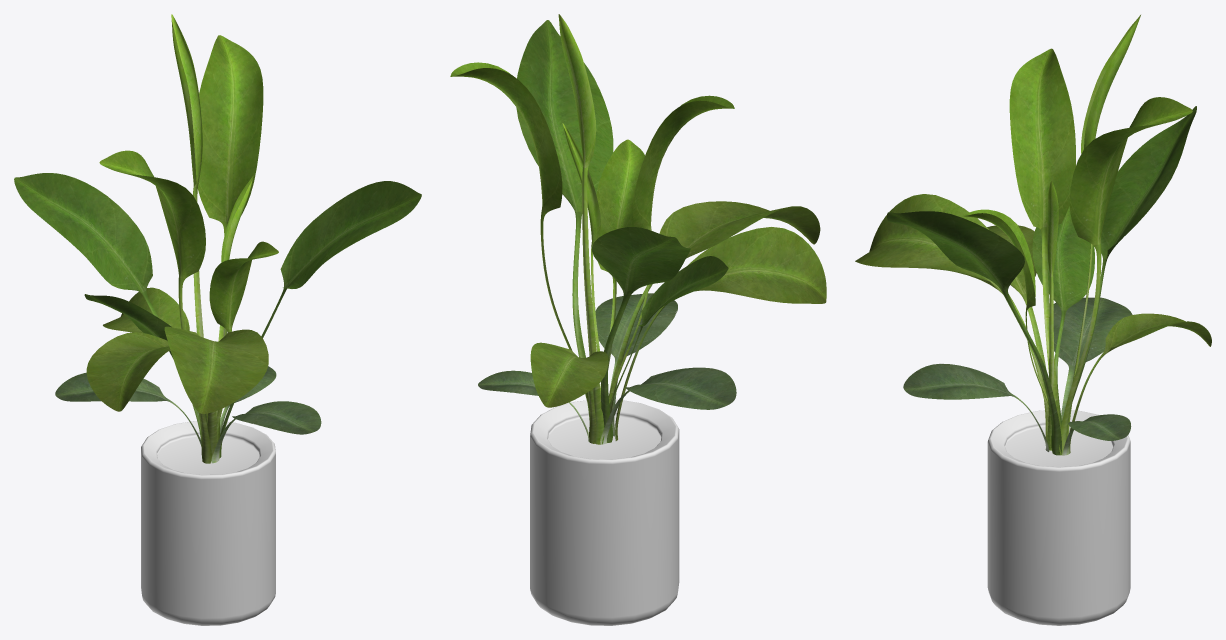
File: plant.fbx
3 renders of one model, left to right at view 1: azimuth 30°, elevation 25°; view 2: azimuth 150°, elevation 25°; view 3: azimuth 270°, elevation 25°, orthographic. The views are drawn at different scales.
Visible parts, largest first — view 1: plant, concrete_pot; view 2: plant, concrete_pot; view 3: plant, concrete_pot.
Part boxes in pixels (<box>): plant: <box>14,14,421,463</box>; concrete_pot: <box>141,421,275,625</box>; plant: <box>450,14,826,444</box>; concrete_pot: <box>530,399,679,625</box>; plant: <box>855,15,1211,455</box>; concrete_pot: <box>987,409,1130,625</box>.
Size of the model in its own units: 64.17 by 119 by 65.66.
Materials: 2 (1 with a texture image).
